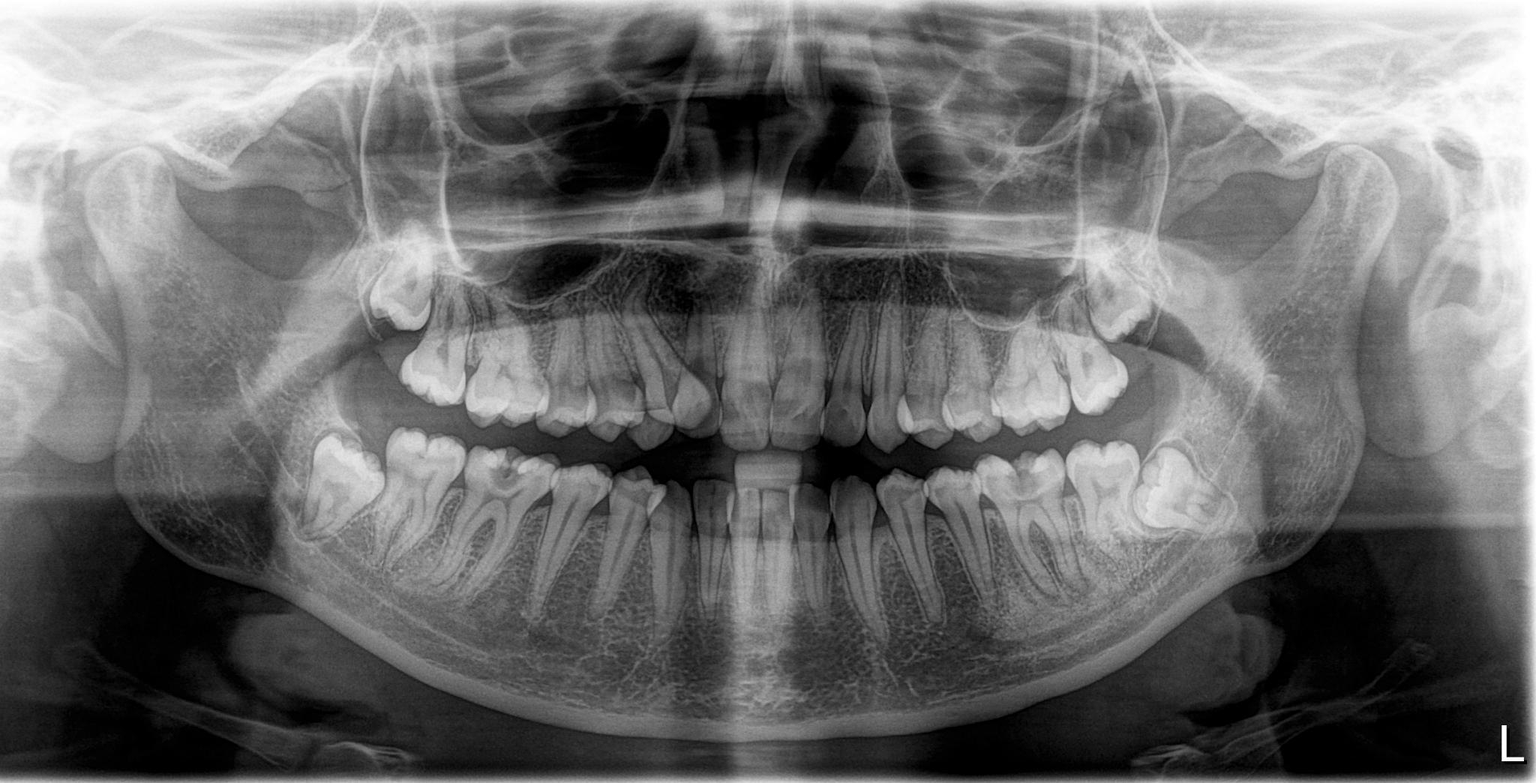Dental Caries: (493, 454, 526, 499), (1009, 468, 1039, 508)
Impacted Third Molar: (1071, 225, 1178, 342), (289, 429, 377, 540), (369, 221, 445, 334), (1144, 437, 1235, 528)
